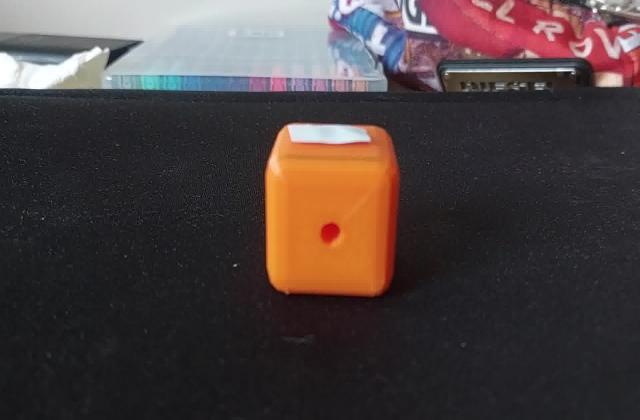cube: (262, 120, 404, 302)
white: (288, 123, 376, 154)
